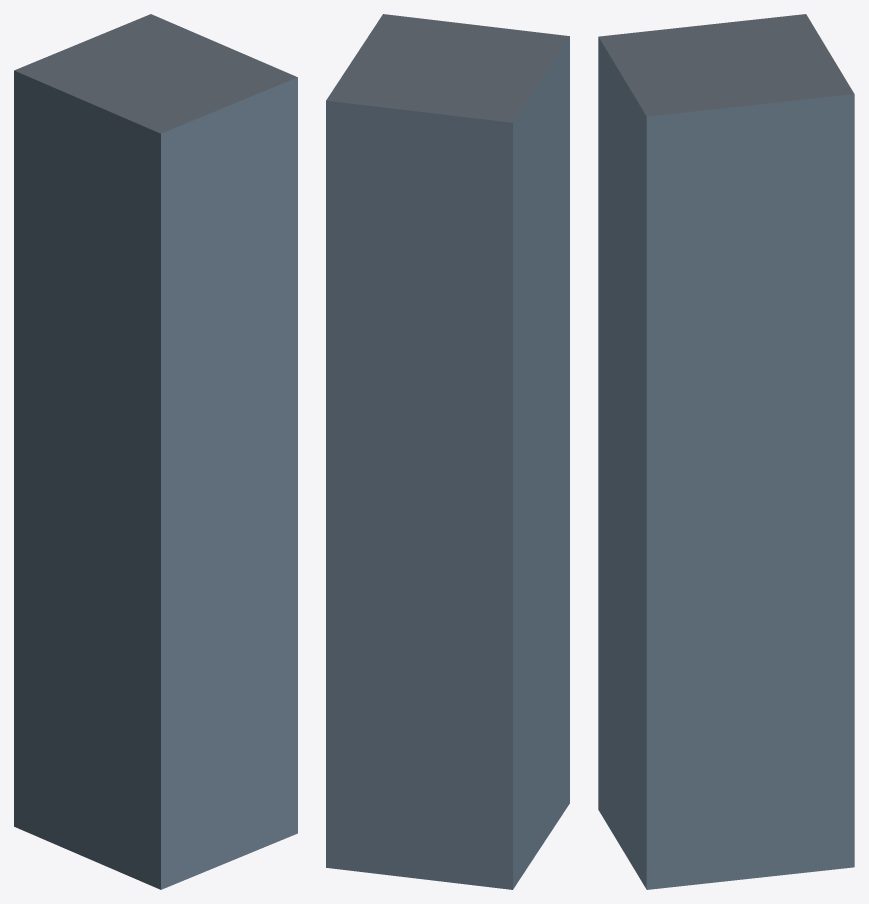
3 views of the same model, side by side, from view 1: azimuth 30°, elevation 25°; view 2: azimuth 150°, elevation 25°; view 3: azimuth 270°, elevation 25° (orthographic). The views are drawn at different scales.
Parts seen in each view (by area): view 1: HP-w10726438; view 2: HP-w10726438; view 3: HP-w10726438.
Part boxes in pixels (box(x1,y1,x2,y2)): HP-w10726438: box(14, 14, 297, 889); HP-w10726438: box(326, 14, 569, 889); HP-w10726438: box(598, 14, 854, 889).
Size of the model in its own units: 56.67 by 199 by 59.71.
